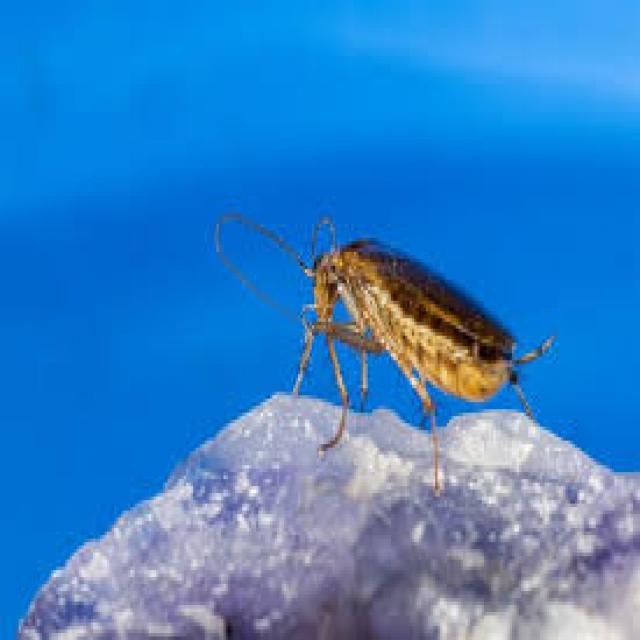Cockroach: (206, 192, 569, 504)
